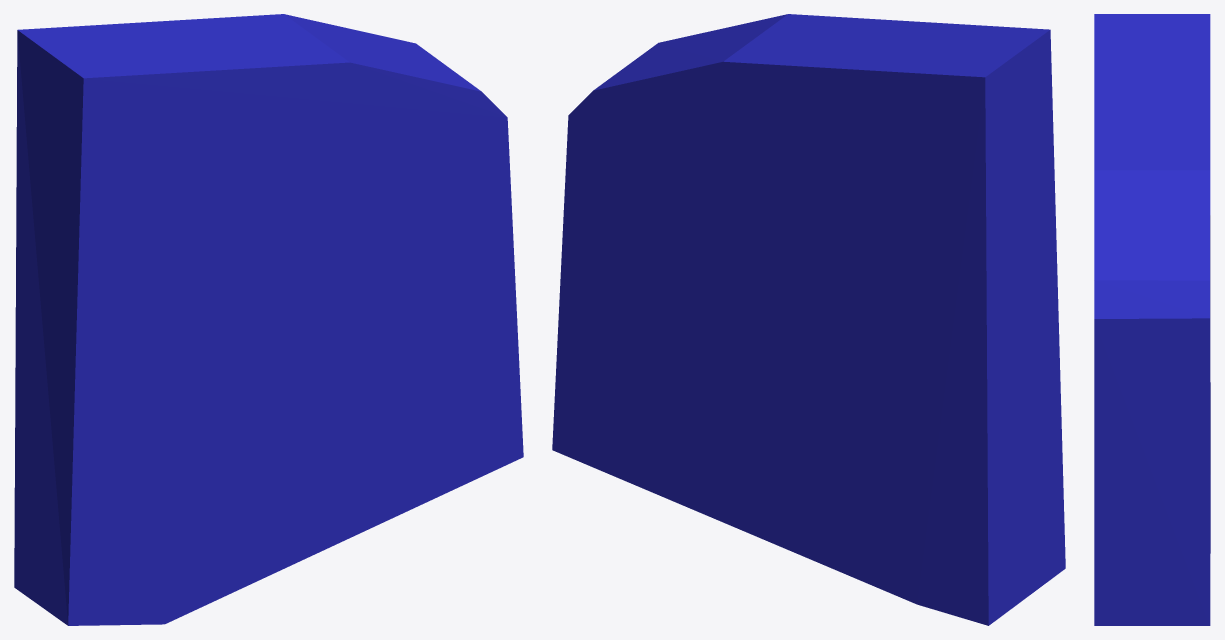
The picture shows the model from 3 angles, left to right: view 1: azimuth 30°, elevation 25°; view 2: azimuth 150°, elevation 25°; view 3: azimuth 270°, elevation 25°; orthographic projection. The views are drawn at different scales.
Size of the model in its own units: 6.05 by 7.19 by 1.53.
